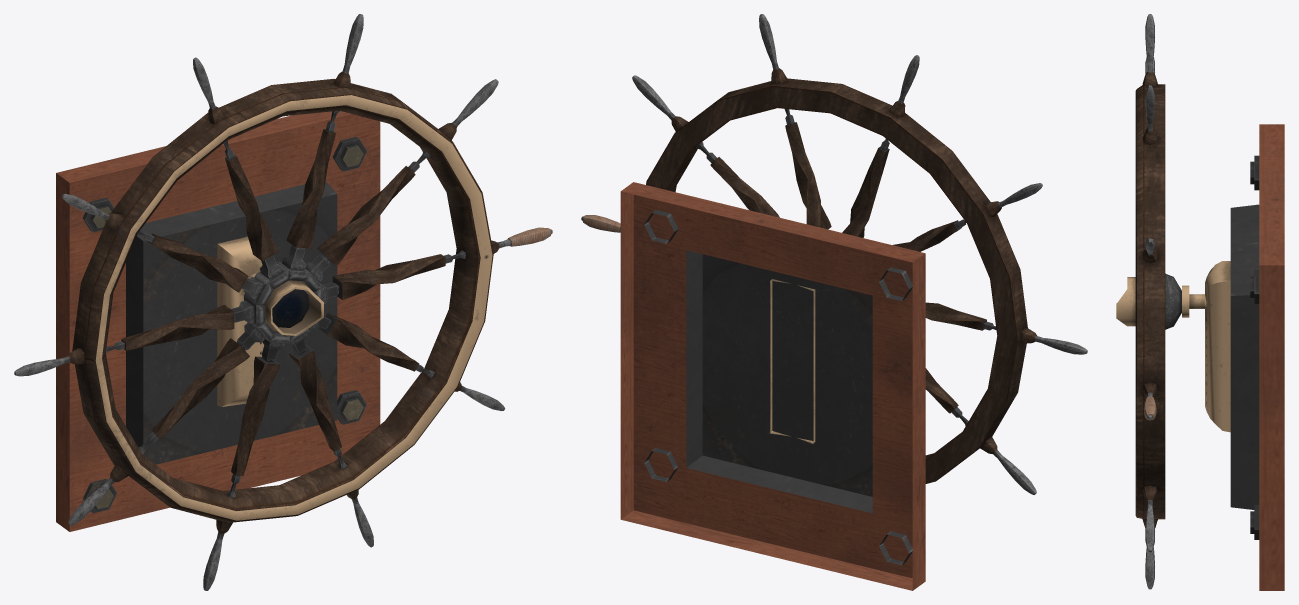
File: Control Wheel Wall Mounted Static.fbx
3 views of the same model, side by side, from view 1: azimuth 30°, elevation 25°; view 2: azimuth 150°, elevation 25°; view 3: azimuth 270°, elevation 25° (orthographic). The views are drawn at different scales.
Parts seen in each view (by area): view 1: Base; view 2: Base; view 3: Base.
Part boxes in pixels (x1=…): Base: x1=14, y1=14, x2=552, y2=590; Base: x1=581, y1=14, x2=1087, y2=590; Base: x1=1116, y1=14, x2=1284, y2=590.
Size of the model in its own units: 143 by 137 by 41.59.
